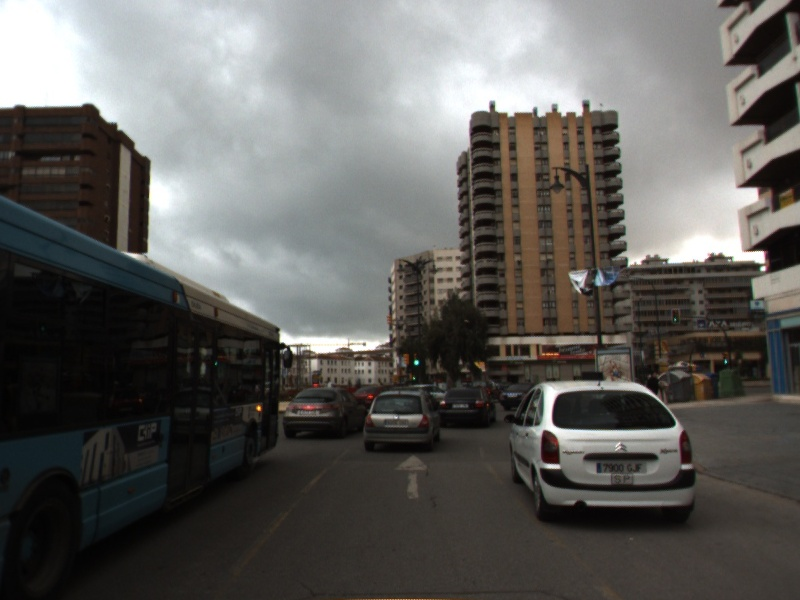STRAIGHT: (392, 452, 434, 501)
